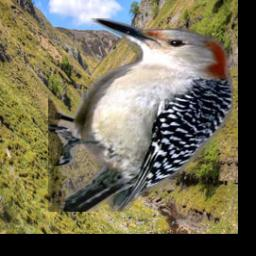Woodpecker: (48, 19, 233, 213)
